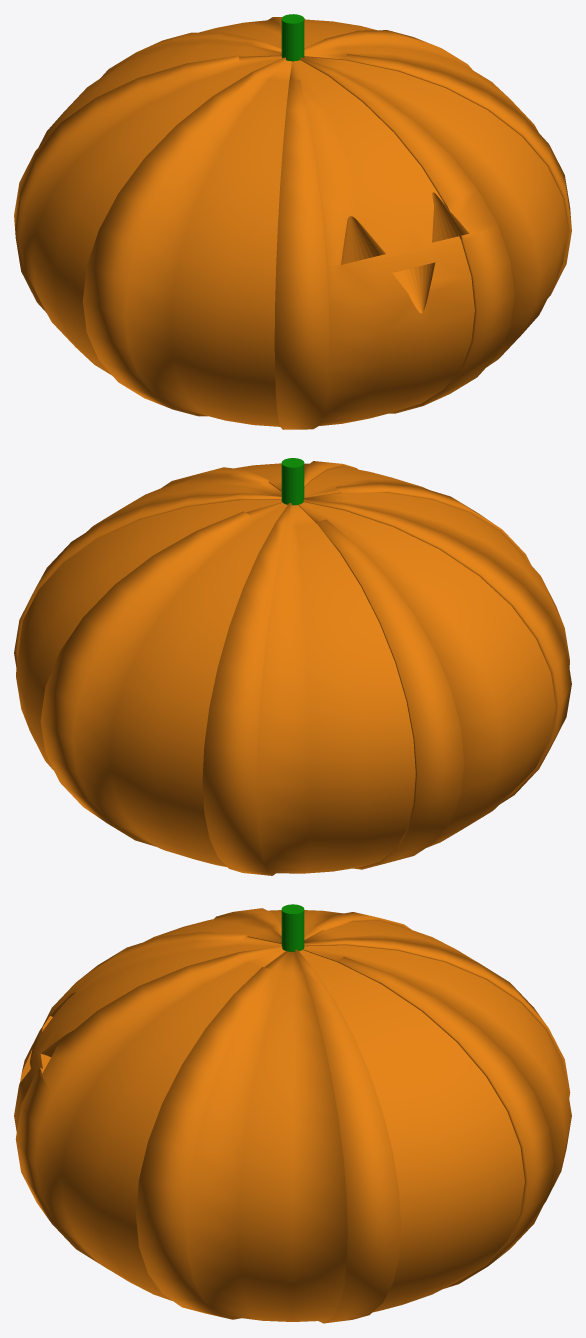
The model's file is pumpkin.fbx.
3 renders of one model, top to bottom at view 1: azimuth 30°, elevation 25°; view 2: azimuth 150°, elevation 25°; view 3: azimuth 270°, elevation 25°, orthographic.
Visible parts, largest first — view 1: Sphere, Cylinder.001; view 2: Sphere, Cylinder.001; view 3: Sphere, Cylinder.001.
Part boxes in pixels (x1,y1,x2,y2): Sphere: (14,17,571,429); Cylinder.001: (281,14,304,61); Sphere: (14,461,571,875); Cylinder.001: (281,458,304,505); Sphere: (14,908,571,1323); Cylinder.001: (281,904,304,951).
Size of the model in its own units: 451 by 338 by 451.
